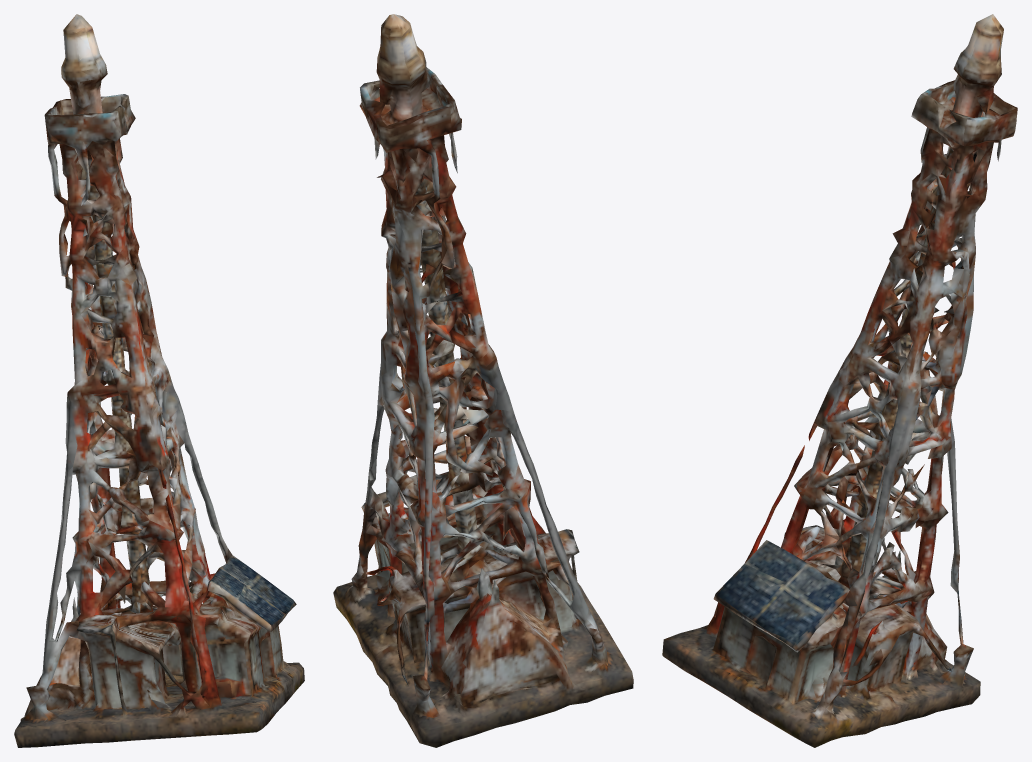
The model's file is rescue_mast.glb.
The picture shows the model from 3 angles, left to right: view 1: azimuth 30°, elevation 25°; view 2: azimuth 150°, elevation 25°; view 3: azimuth 270°, elevation 25°; orthographic projection. The views are drawn at different scales.
Visible parts, largest first — view 1: low; view 2: low; view 3: low.
Boxes of the visible parts, x1,y1,x2,y2 form: low: (14, 14, 304, 747); low: (333, 14, 633, 747); low: (662, 14, 1017, 747).
Bounding box in the file's own units: 10.47 × 24 × 11.08.
Materials: 1 (1 with a texture image).
